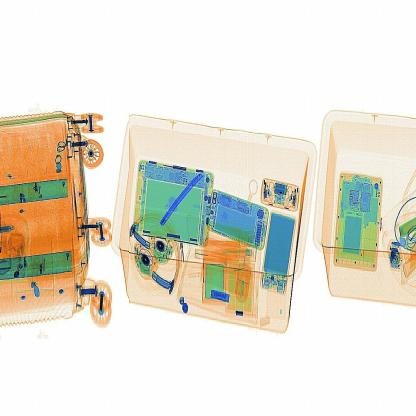pliers: (152, 160, 214, 233)
